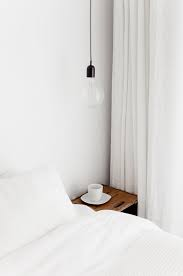bulb: (74, 73, 110, 110)
